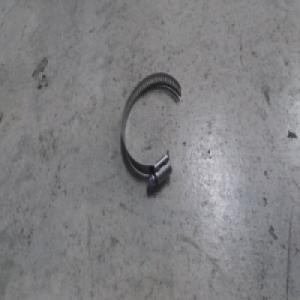AdjustableClamp: (120, 73, 184, 189)
